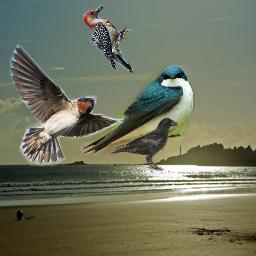Crow: (109, 117, 177, 171)
Swallow: (9, 44, 129, 166), (80, 65, 195, 155)
Woodpecker: (83, 5, 133, 73)
